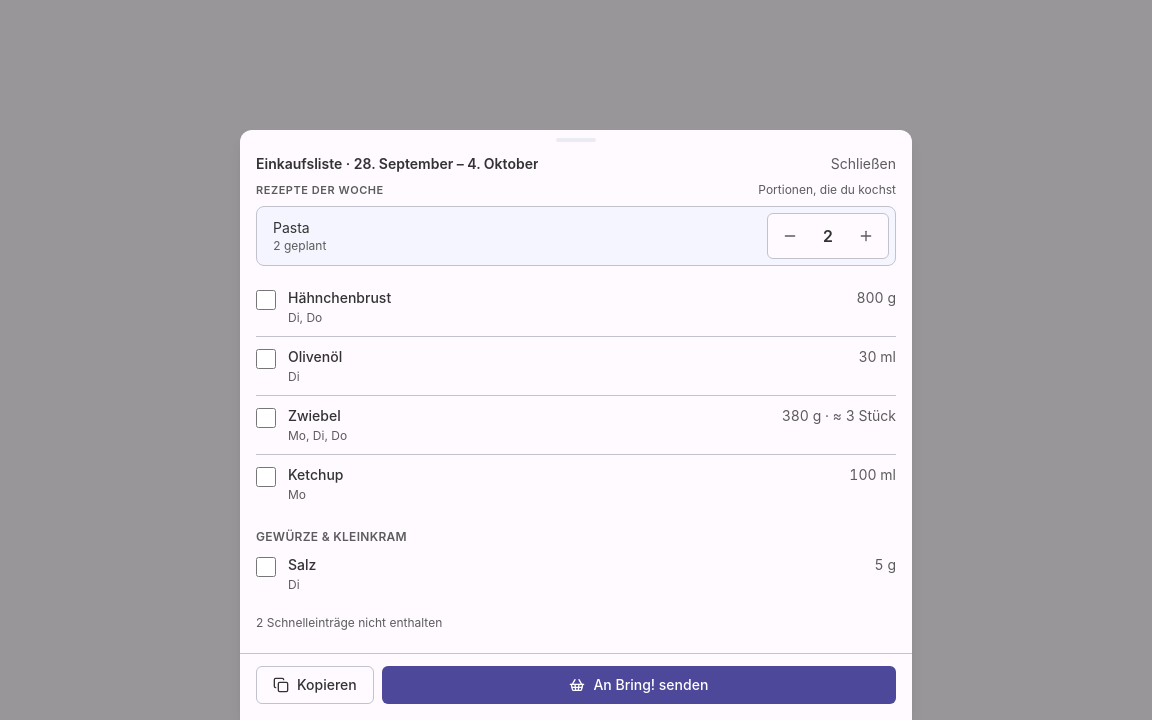
GroceryListSheet › Rezepte der Woche › reloads the list with the new portions
Step 1. Click the button named "Pasta: eine Portion mehr" → click(866, 236), box [844,214,888,258]
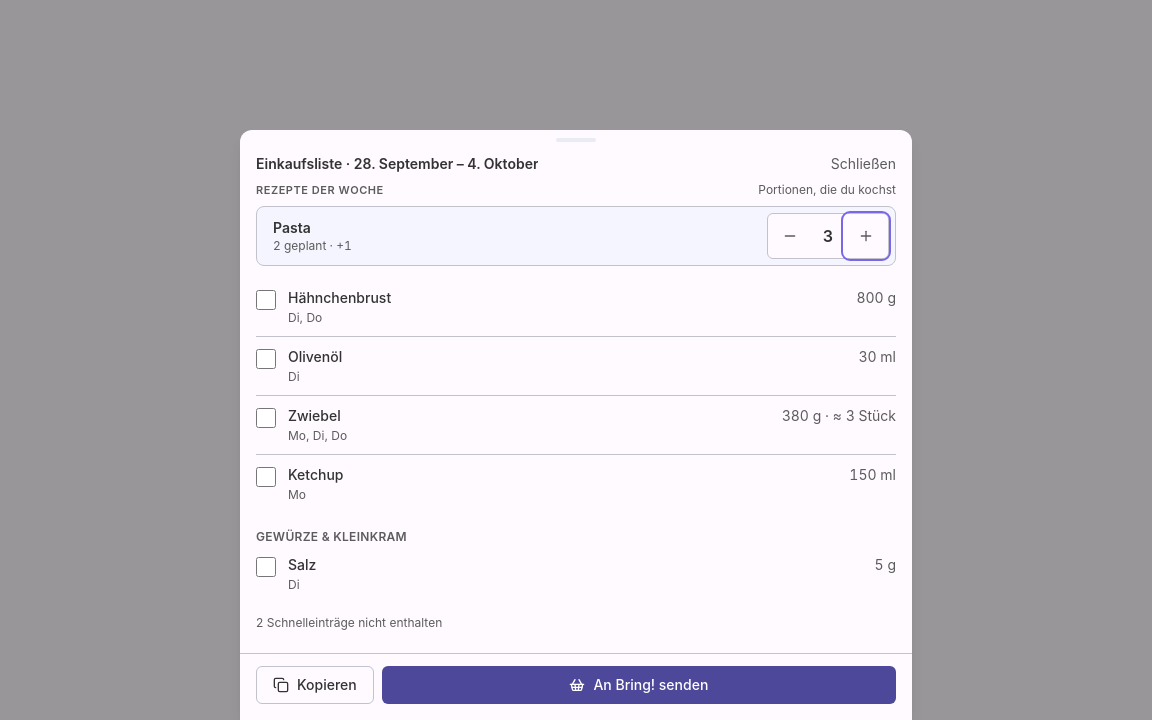
Step 2. Click the button named "Pasta: eine Portion mehr" → click(866, 236), box [844,214,888,258]
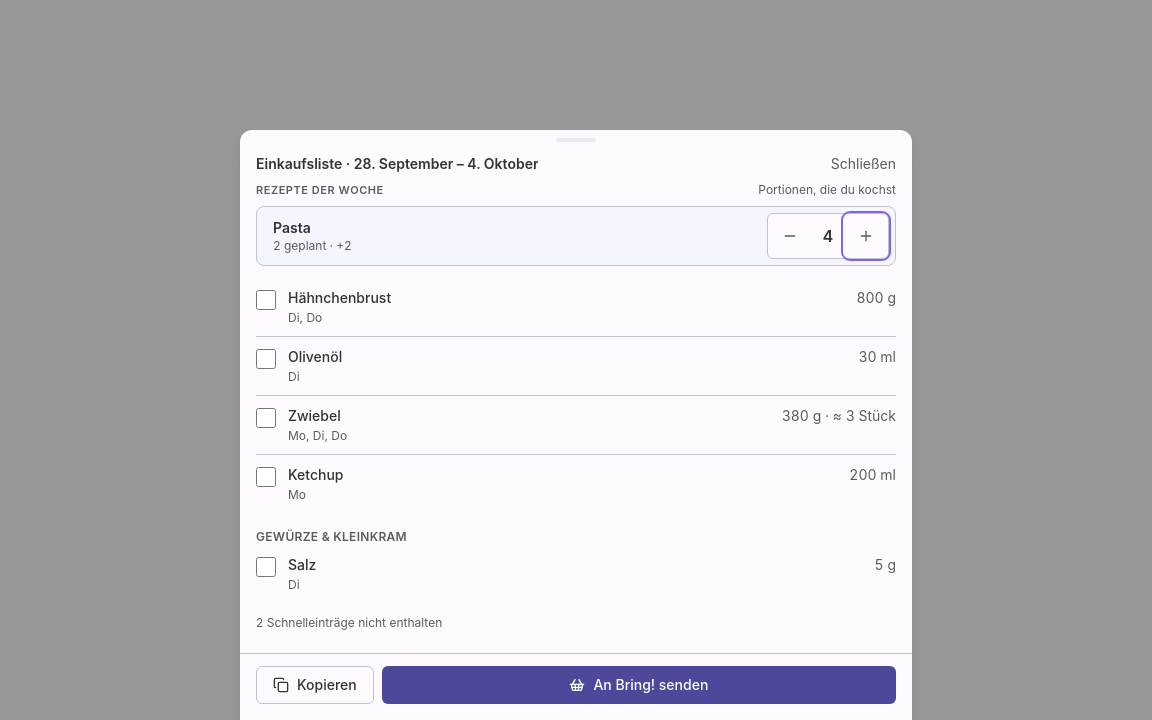
Expected: the text "200 ml" is shown, [849,465,896,485]
Expected: the number field named "Portionen von Pasta" holds "4", [812,224,844,248]
Expected: the text "2 geplant · +2" is shown, [273,238,352,253]
